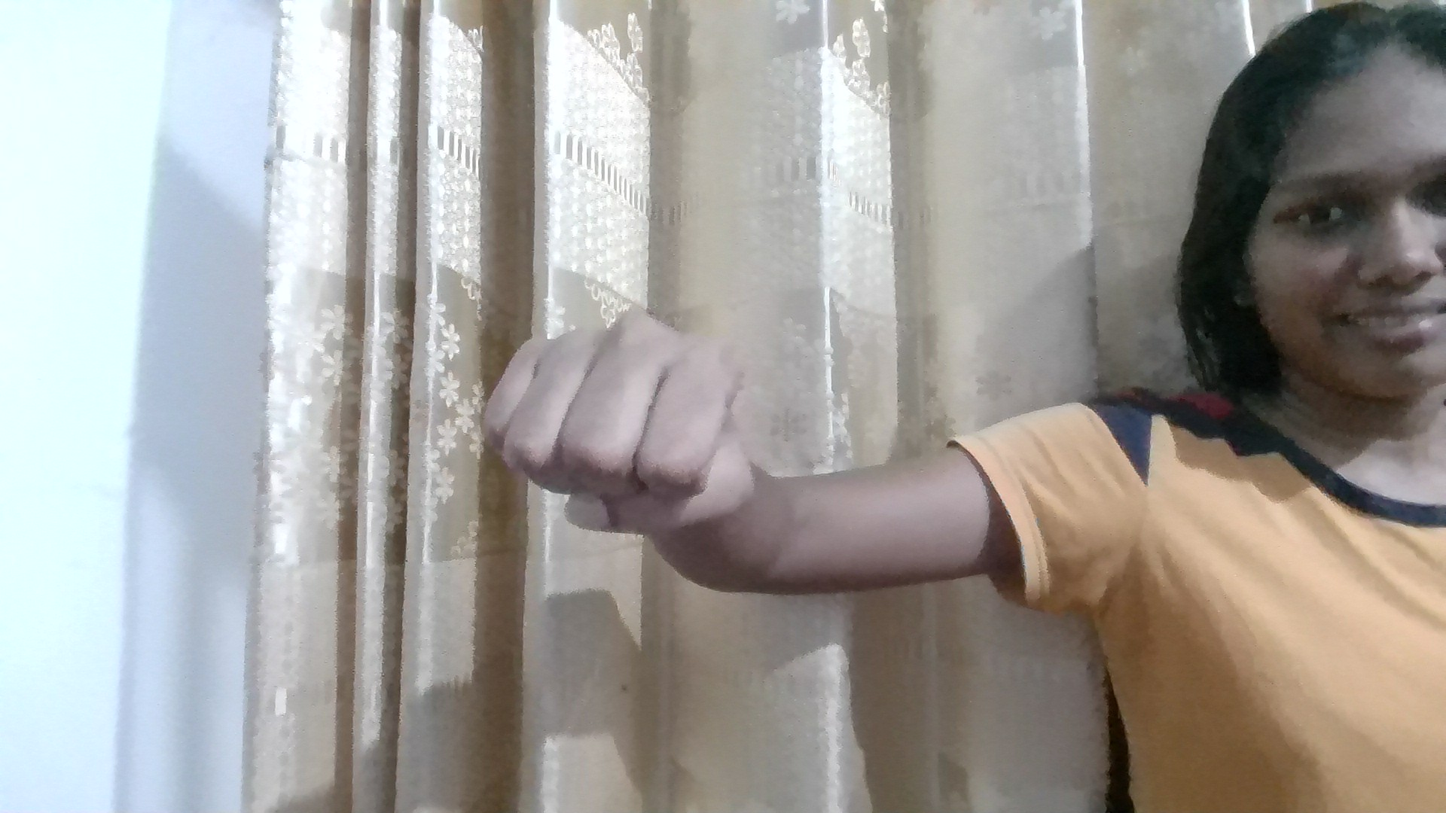Yes: (371, 269, 857, 606)
